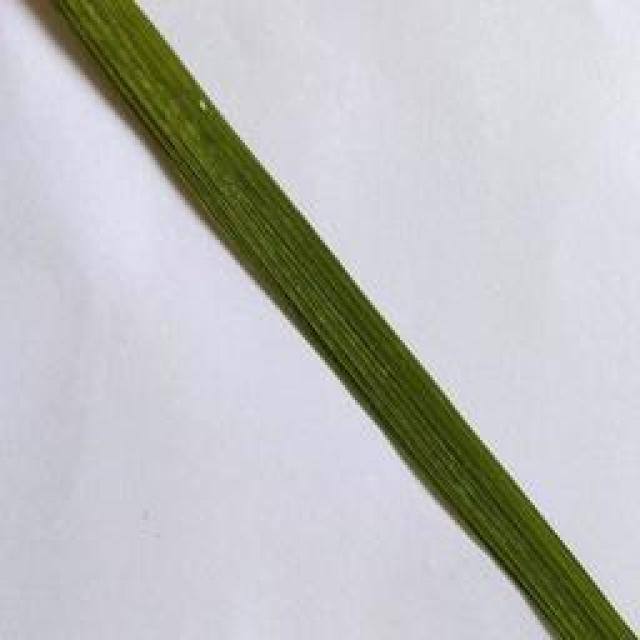Healthy-Plant: (51, 0, 636, 640)
